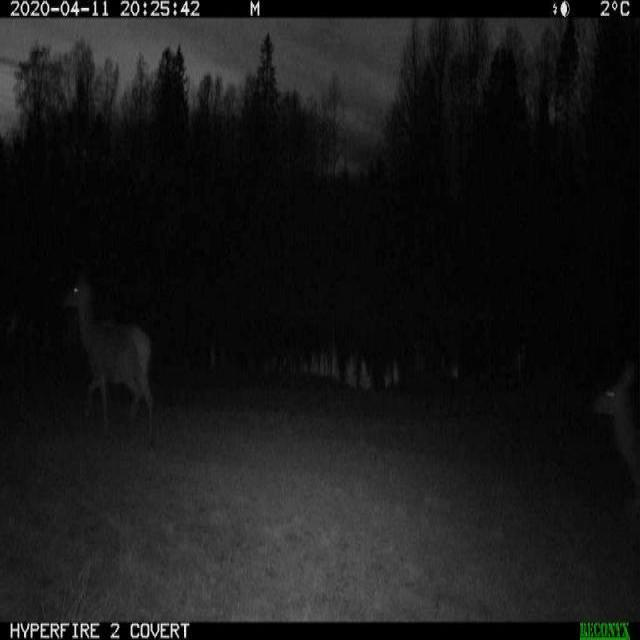deer: (58, 311, 156, 425)
